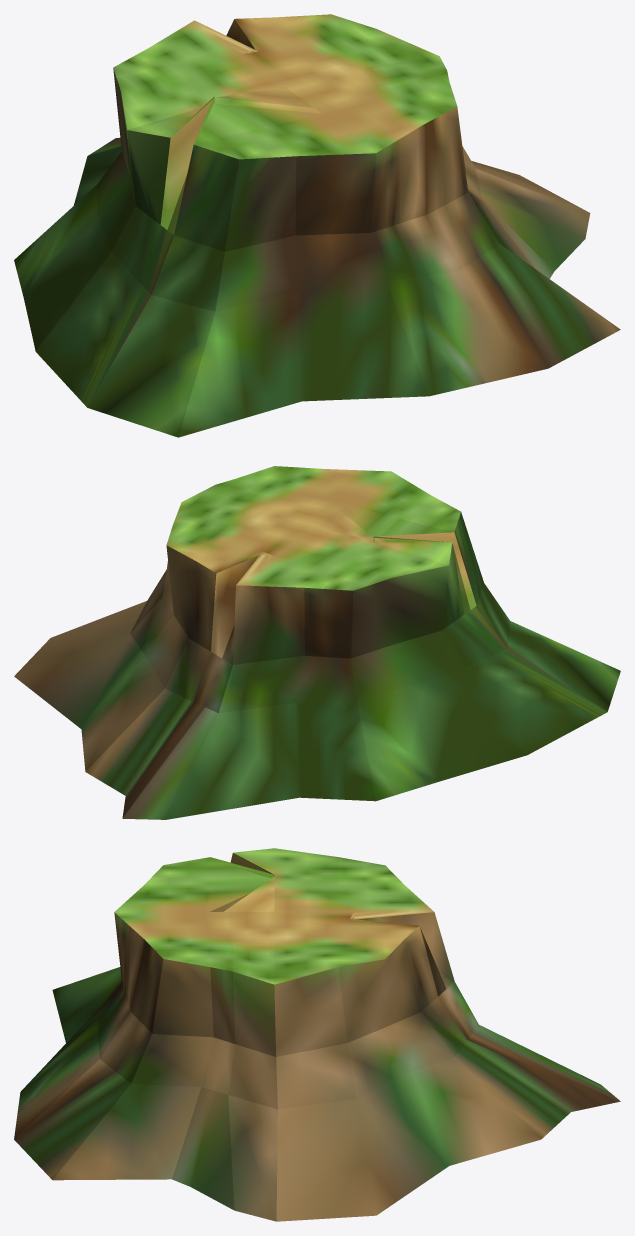
Rendered from Poly_Stump_02.obj.
3 renders of one model, top to bottom at view 1: azimuth 30°, elevation 25°; view 2: azimuth 150°, elevation 25°; view 3: azimuth 270°, elevation 25°, orthographic. The views are drawn at different scales.
Visible parts, largest first — view 1: Cube; view 2: Cube; view 3: Cube.
Part boxes in pixels (<box>): Cube: <box>14,14,620,437</box>; Cube: <box>14,466,620,819</box>; Cube: <box>14,848,620,1221</box>.
Size of the model in its own units: 1.45 by 0.5095 by 1.5.
Materials: 1 (1 with a texture image).
